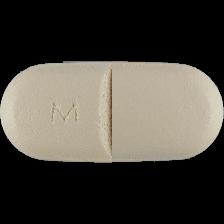0378-4745: (0, 0, 224, 224)
